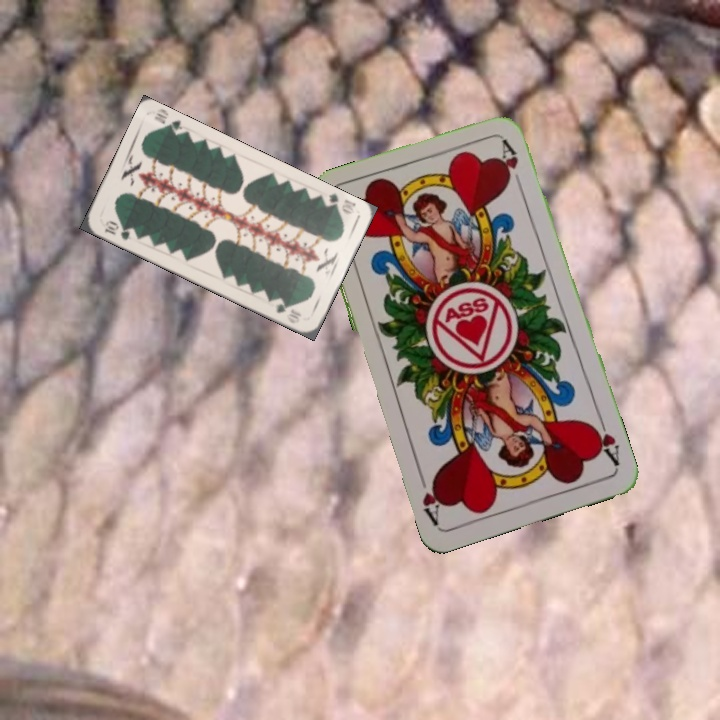G10: (318, 189, 358, 217), (100, 216, 133, 243)
HA: (586, 412, 622, 469)
